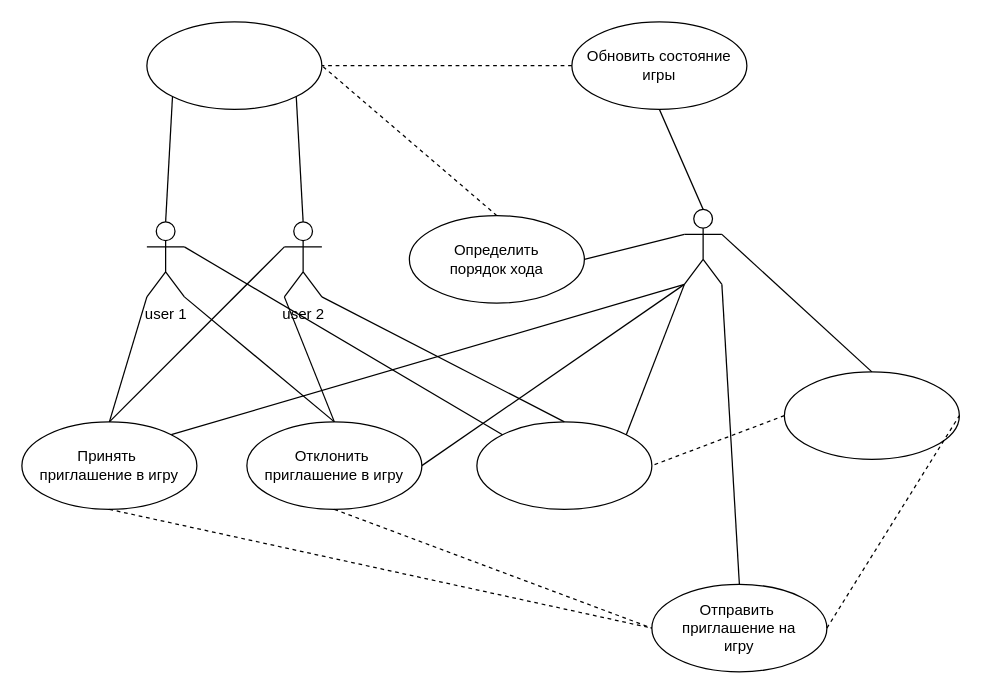
This 983x694 diagram has some shape labels left out. Here are the shapes that lost their labels. From the top down, the centre of each, then its label:
At (x=234, y=65): "Совершить ход".
At (x=702, y=246): "server".
At (x=871, y=415): "Посмотреть список активных игроков".
At (x=564, y=465): "Авторизация".
